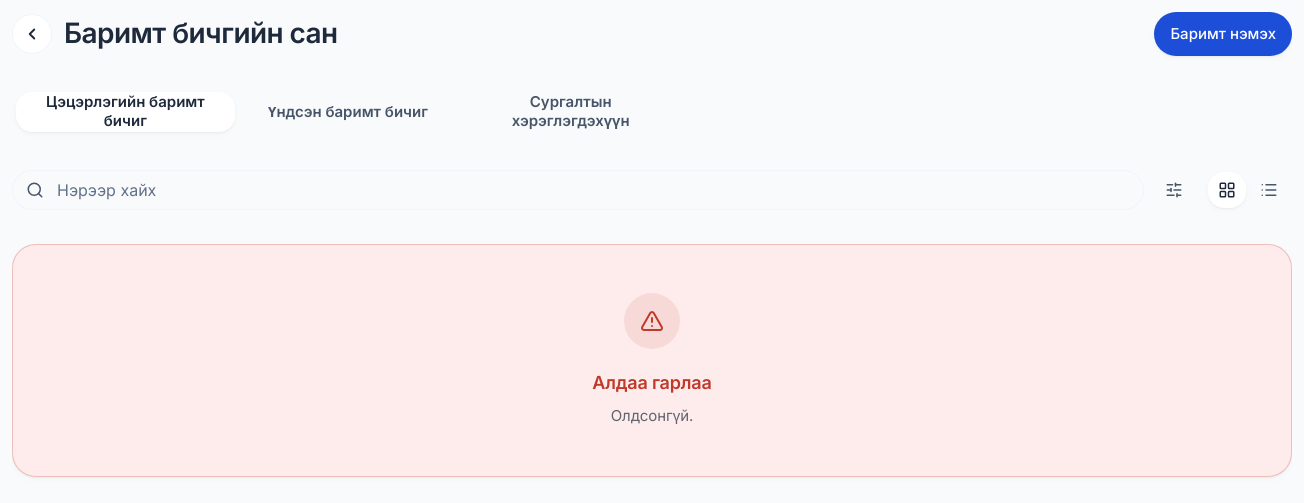
Test: the teaching materials tab › shows a 404 as an error, with no sample catalog
Click the tab "Сургалтын хэрэглэгдэхүүн" at {"x": 571, "y": 112}, box [461, 92, 680, 132]
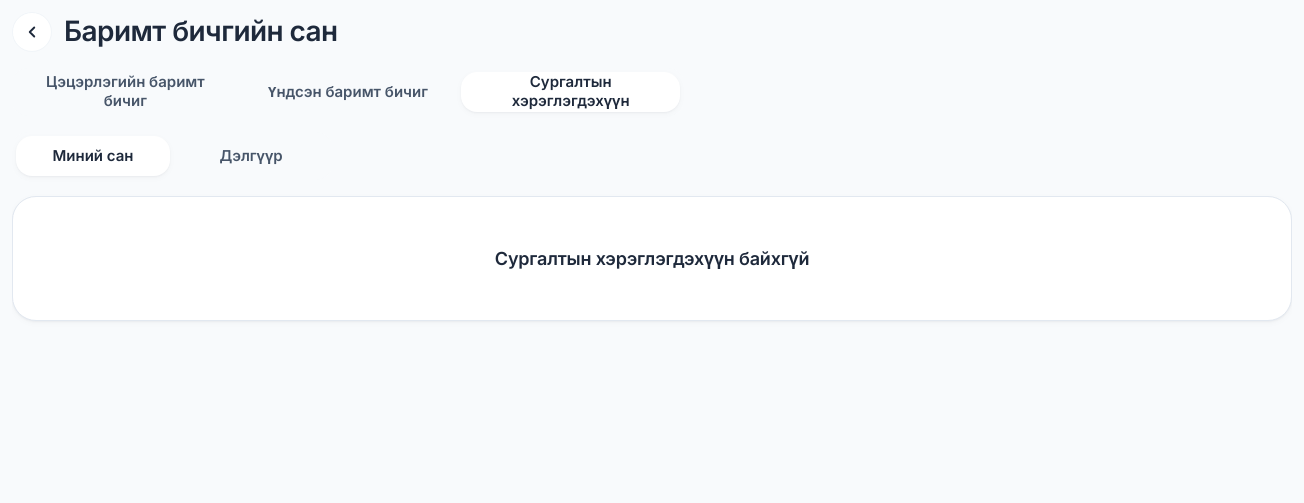
Click the tab "Дэлгүүр" at {"x": 251, "y": 156}, box [174, 136, 328, 176]
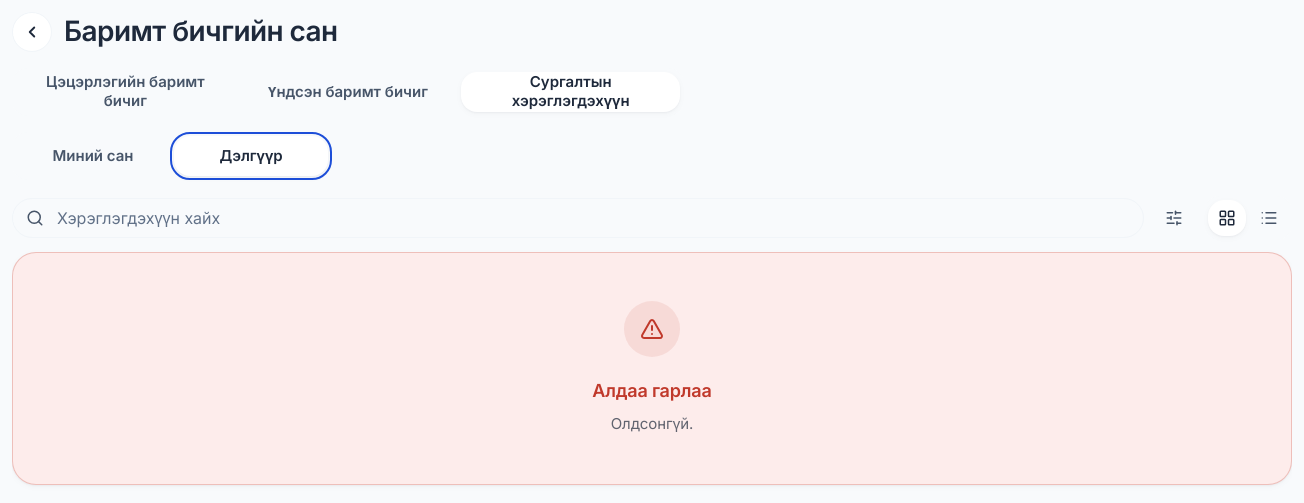
Now the message "Алдаа гарлаа Олдсонгүй." is shown, box [12, 252, 1292, 485]
